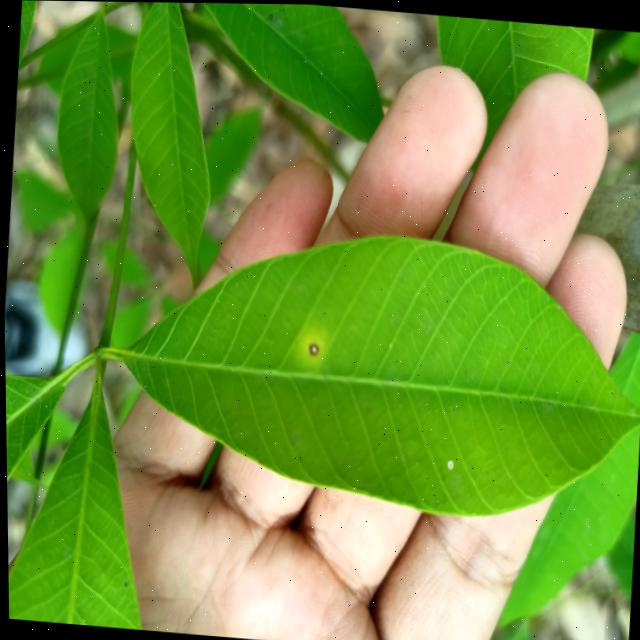Colletotrichum: (307, 340, 318, 354)
